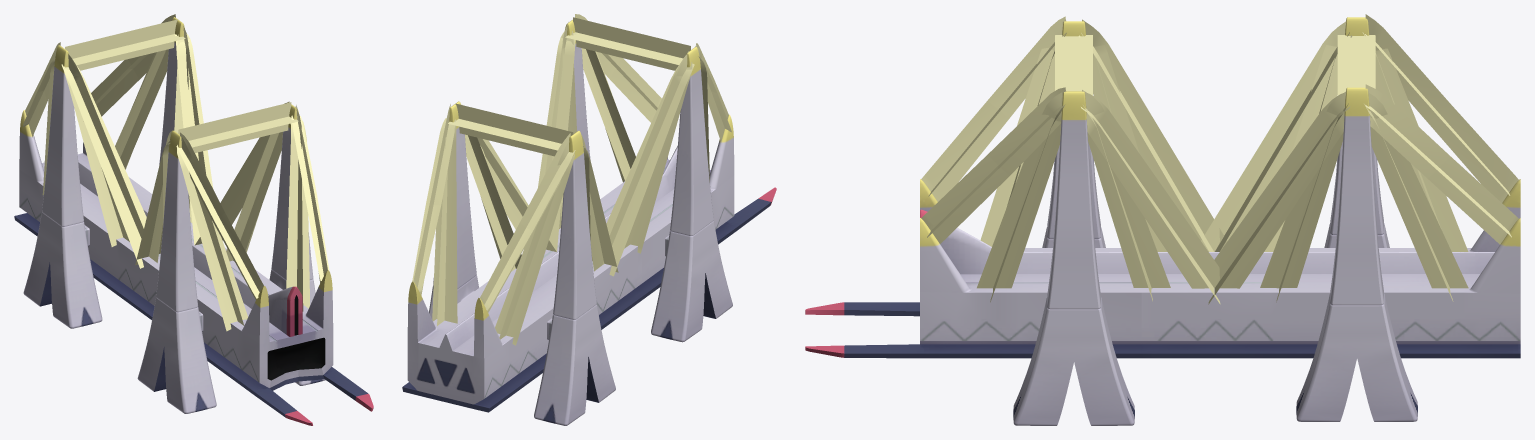
The model's file is ArchaludonCharging.glb.
The picture shows the model from 3 angles, left to right: view 1: azimuth 30°, elevation 25°; view 2: azimuth 150°, elevation 25°; view 3: azimuth 270°, elevation 25°; orthographic projection. The views are drawn at different scales.
Visible parts, largest first — view 1: pm1132_00_00_effect_a_mesh_shape, pm1132_00_00_body_b_mesh_shape, pm1132_00_00_right_hand_mesh_shape.001, pm1132_00_00_right_hand_mesh_shape, pm1132_00_00_left_hand_mesh_shape, pm1132_00_00_left_hand_mesh_shape.001; view 2: pm1132_00_00_effect_a_mesh_shape, pm1132_00_00_body_b_mesh_shape, pm1132_00_00_right_hand_mesh_shape.001, pm1132_00_00_right_hand_mesh_shape, pm1132_00_00_left_hand_mesh_shape.001, pm1132_00_00_left_hand_mesh_shape; view 3: pm1132_00_00_effect_a_mesh_shape, pm1132_00_00_body_b_mesh_shape, pm1132_00_00_left_hand_mesh_shape, pm1132_00_00_left_hand_mesh_shape.001, pm1132_00_00_right_hand_mesh_shape.001, pm1132_00_00_right_hand_mesh_shape.
Boxes of the visible parts, x1=… form: pm1132_00_00_effect_a_mesh_shape: x1=23, y1=14, x2=329, y2=331; pm1132_00_00_body_b_mesh_shape: x1=14, y1=110, x2=373, y2=425; pm1132_00_00_right_hand_mesh_shape.001: x1=23, y1=45, x2=102, y2=328; pm1132_00_00_right_hand_mesh_shape: x1=137, y1=131, x2=216, y2=413; pm1132_00_00_left_hand_mesh_shape: x1=269, y1=102, x2=325, y2=385; pm1132_00_00_left_hand_mesh_shape.001: x1=159, y1=17, x2=184, y2=164; pm1132_00_00_effect_a_mesh_shape: x1=412, y1=14, x2=731, y2=345; pm1132_00_00_body_b_mesh_shape: x1=402, y1=114, x2=776, y2=412; pm1132_00_00_right_hand_mesh_shape.001: x1=534, y1=130, x2=615, y2=425; pm1132_00_00_right_hand_mesh_shape: x1=651, y1=47, x2=732, y2=342; pm1132_00_00_left_hand_mesh_shape.001: x1=429, y1=101, x2=478, y2=319; pm1132_00_00_left_hand_mesh_shape: x1=565, y1=17, x2=590, y2=158; pm1132_00_00_effect_a_mesh_shape: x1=921, y1=14, x2=1518, y2=304; pm1132_00_00_body_b_mesh_shape: x1=805, y1=179, x2=1520, y2=358; pm1132_00_00_left_hand_mesh_shape: x1=1013, y1=91, x2=1134, y2=425; pm1132_00_00_left_hand_mesh_shape.001: x1=1296, y1=87, x2=1417, y2=421; pm1132_00_00_right_hand_mesh_shape.001: x1=1324, y1=17, x2=1389, y2=247; pm1132_00_00_right_hand_mesh_shape: x1=1042, y1=21, x2=1105, y2=247.
Size of the model in its own units: 1.04 by 1.77 by 3.45.
Materials: 4 (4 with a texture image).
